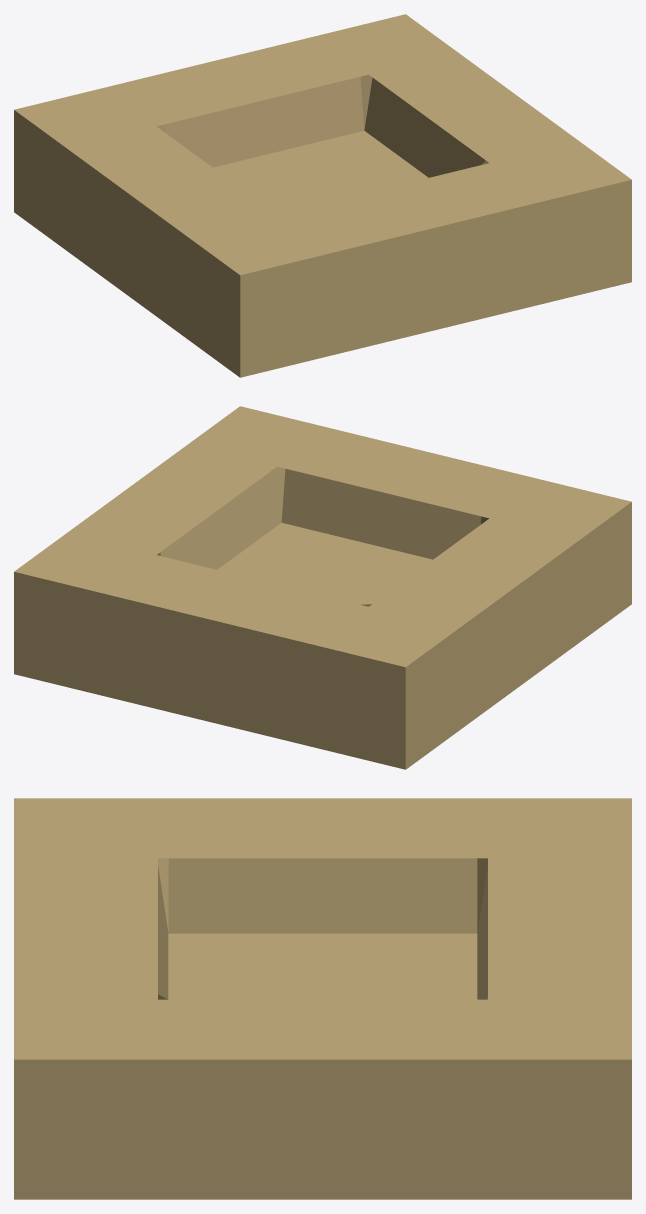
File: GroundPit2.fbx
3 renders of one model, top to bottom at view 1: azimuth 30°, elevation 25°; view 2: azimuth 150°, elevation 25°; view 3: azimuth 270°, elevation 25°, orthographic. The views are drawn at different scales.
Parts seen in each view (by area): view 1: Cube.018; view 2: Cube.018; view 3: Cube.018.
Boxes of the visible parts, <box> form: Cube.018: <box>14,14,631,377</box>; Cube.018: <box>14,406,631,769</box>; Cube.018: <box>14,798,631,1199</box>.
Size of the model in its own units: 800 by 200 by 800.
